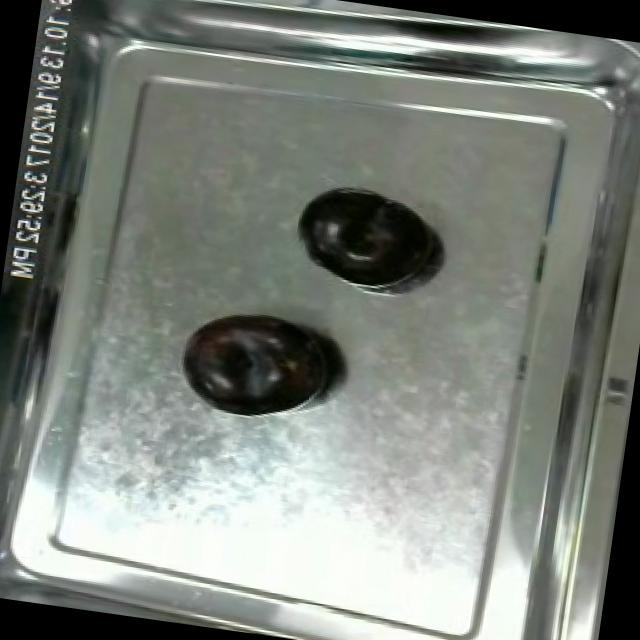Fruit: (168, 299, 342, 426), (294, 178, 440, 290)
